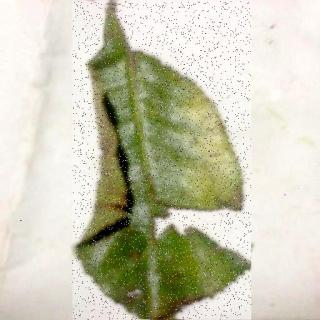Red Leaf Spot: (74, 2, 253, 320)
